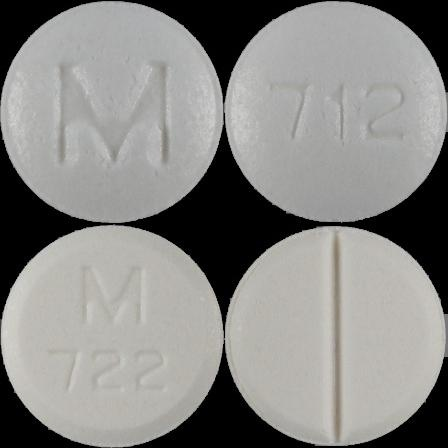0378-0712: (0, 0, 224, 224)
